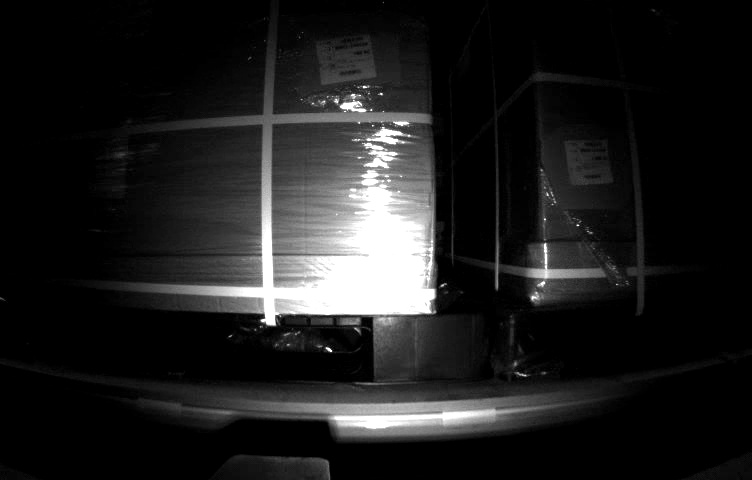True Barcode: (316, 33, 377, 83), (563, 136, 616, 182)
